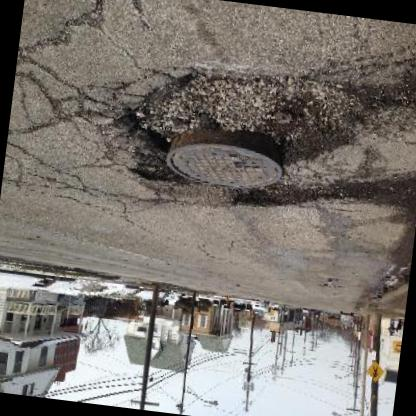pothole: (112, 50, 372, 208), (228, 174, 312, 218)
